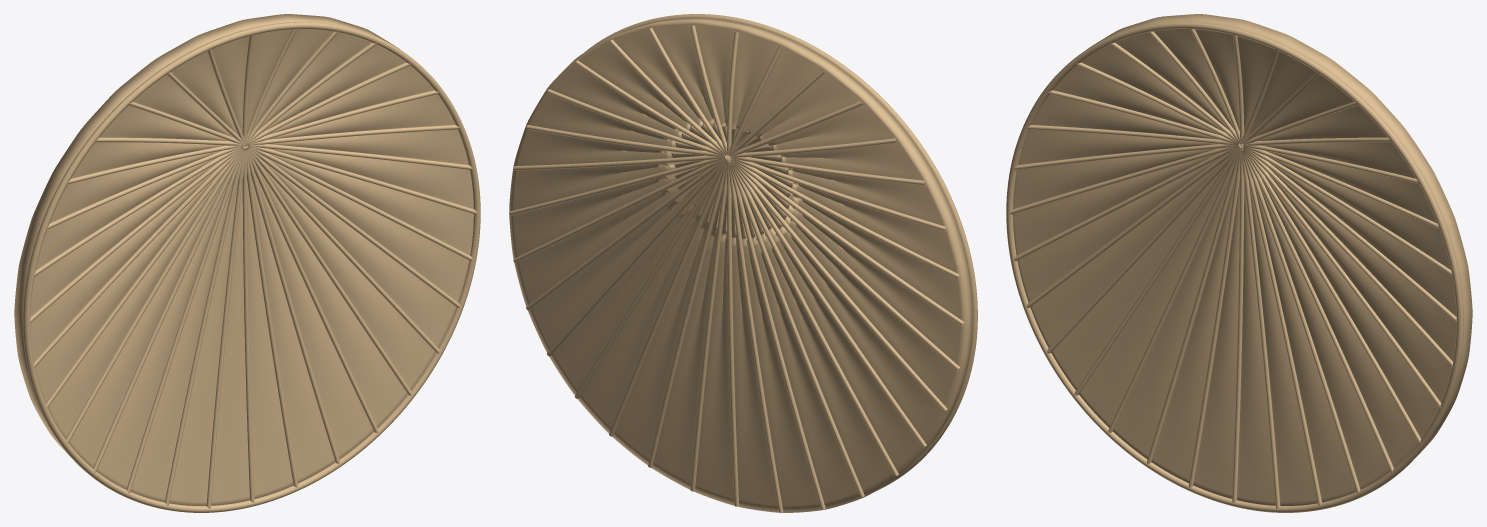
The model's file is radial-gold.glb.
The picture shows the model from 3 angles, left to right: view 1: azimuth 30°, elevation 25°; view 2: azimuth 150°, elevation 25°; view 3: azimuth 330°, elevation 25°; orthographic projection.
Parts seen in each view (by area): view 1: Off-axis 32-sector fan, Fine rolled lip.001, Fine radial ray 23, Fine radial ray 22, Fine radial ray 21, Fine radial ray 24, Fine radial ray 25, Fine radial ray 20, Fine radial ray 26, Fine radial ray 19, Fine radial ray 27, Fine radial ray 18 (+20 smaller); view 2: Off-axis 32-sector fan, Fine rolled lip.001, Reverse radial ray 22, Reverse radial ray 21, Reverse radial ray 23, Reverse radial ray 20, Reverse radial ray 24, Reverse radial ray 19, Reverse radial ray 25, Reverse radial ray 18, Reverse radial ray 26, Reverse radial ray 17 (+22 smaller); view 3: Off-axis 32-sector fan, Fine rolled lip.001, Fine radial ray 25, Fine radial ray 26, Fine radial ray 27, Fine radial ray 24, Fine radial ray 23, Fine radial ray 28, Fine radial ray 22, Fine radial ray 29, Fine radial ray 21, Fine radial ray 30 (+20 smaller).
Part boxes in pixels (box(x1,y1,x2,y2)): Off-axis 32-sector fan: box(14, 14, 473, 505); Fine rolled lip.001: box(23, 22, 480, 512); Fine radial ray 23: box(206, 149, 245, 508); Fine radial ray 22: box(165, 149, 244, 505); Fine radial ray 21: box(126, 149, 244, 493); Fine radial ray 24: box(242, 149, 254, 502); Fine radial ray 25: box(246, 150, 298, 487); Fine radial ray 20: box(93, 149, 243, 472); Fine radial ray 26: box(246, 150, 339, 464); Fine radial ray 19: box(65, 149, 243, 443); Fine radial ray 27: box(245, 149, 378, 433); Fine radial ray 18: box(45, 149, 242, 408); Off-axis 32-sector fan: box(509, 18, 972, 512); Fine rolled lip.001: box(584, 14, 977, 490); Reverse radial ray 22: box(729, 162, 825, 509); Reverse radial ray 21: box(729, 161, 864, 497); Reverse radial ray 23: box(728, 161, 783, 512); Reverse radial ray 20: box(730, 161, 898, 476); Reverse radial ray 24: box(727, 161, 739, 506); Reverse radial ray 19: box(730, 161, 926, 447); Reverse radial ray 25: box(690, 162, 727, 491); Reverse radial ray 18: box(730, 160, 947, 411); Reverse radial ray 26: box(648, 161, 729, 467); Reverse radial ray 17: box(731, 160, 959, 370); Off-axis 32-sector fan: box(1013, 14, 1472, 505); Fine rolled lip.001: box(1006, 22, 1463, 512); Fine radial ray 25: box(1241, 149, 1280, 508); Fine radial ray 26: box(1242, 149, 1321, 505); Fine radial ray 27: box(1242, 149, 1360, 493); Fine radial ray 24: box(1232, 149, 1244, 502); Fine radial ray 23: box(1188, 150, 1240, 487); Fine radial ray 28: box(1243, 149, 1393, 472); Fine radial ray 22: box(1147, 150, 1240, 464); Fine radial ray 29: box(1243, 149, 1421, 443); Fine radial ray 21: box(1108, 149, 1241, 433); Fine radial ray 30: box(1244, 149, 1441, 408).
Size of the model in its own units: 2.03 by 2.03 by 0.1659.
